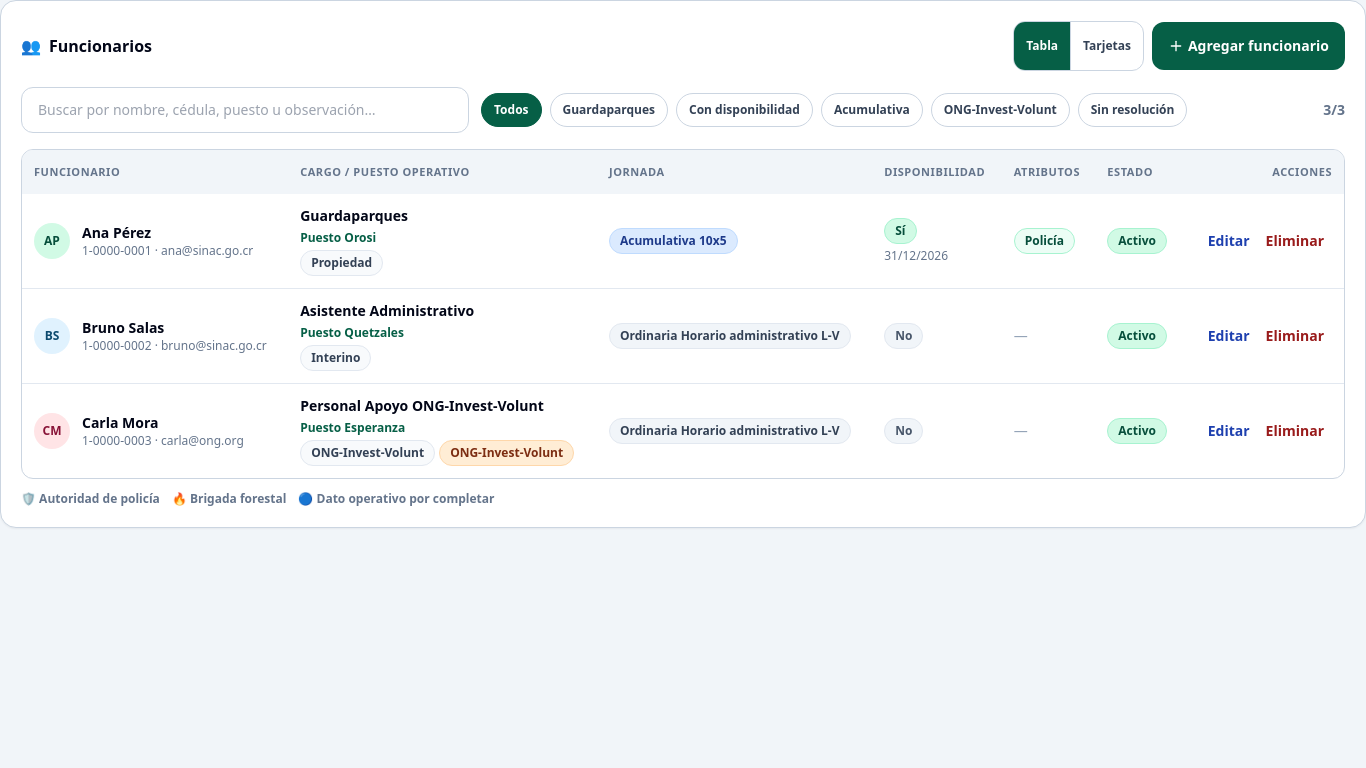
it: Funcionarios — filtros y búsqueda › filtro 'Con disponibilidad' deja solo a Ana
Click the button "Con disponibilidad". click: (744, 110)
box: [676,93,813,127]
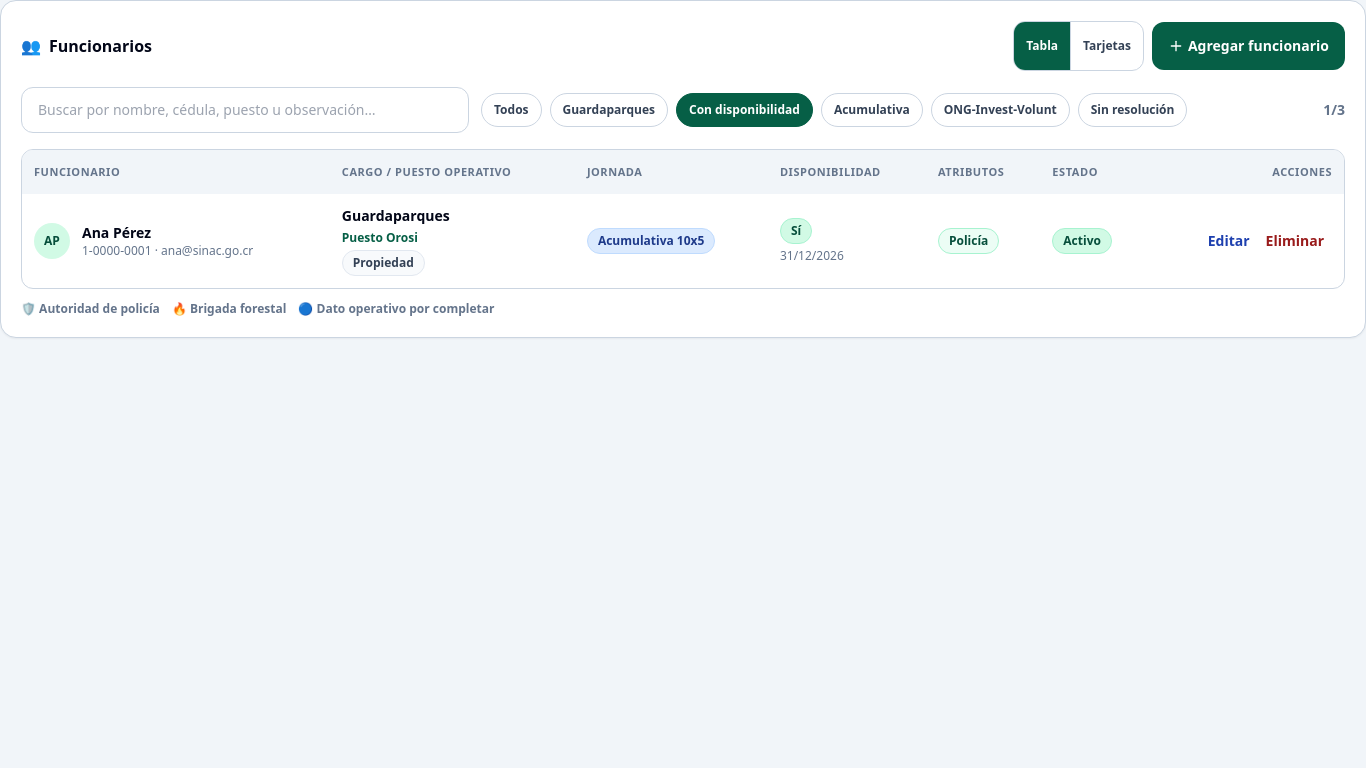
Check: the text "Ana Pérez" is shown, box [82,223,151,242]
Check: the text "1/3" is shown, box [1323,100,1345,120]
